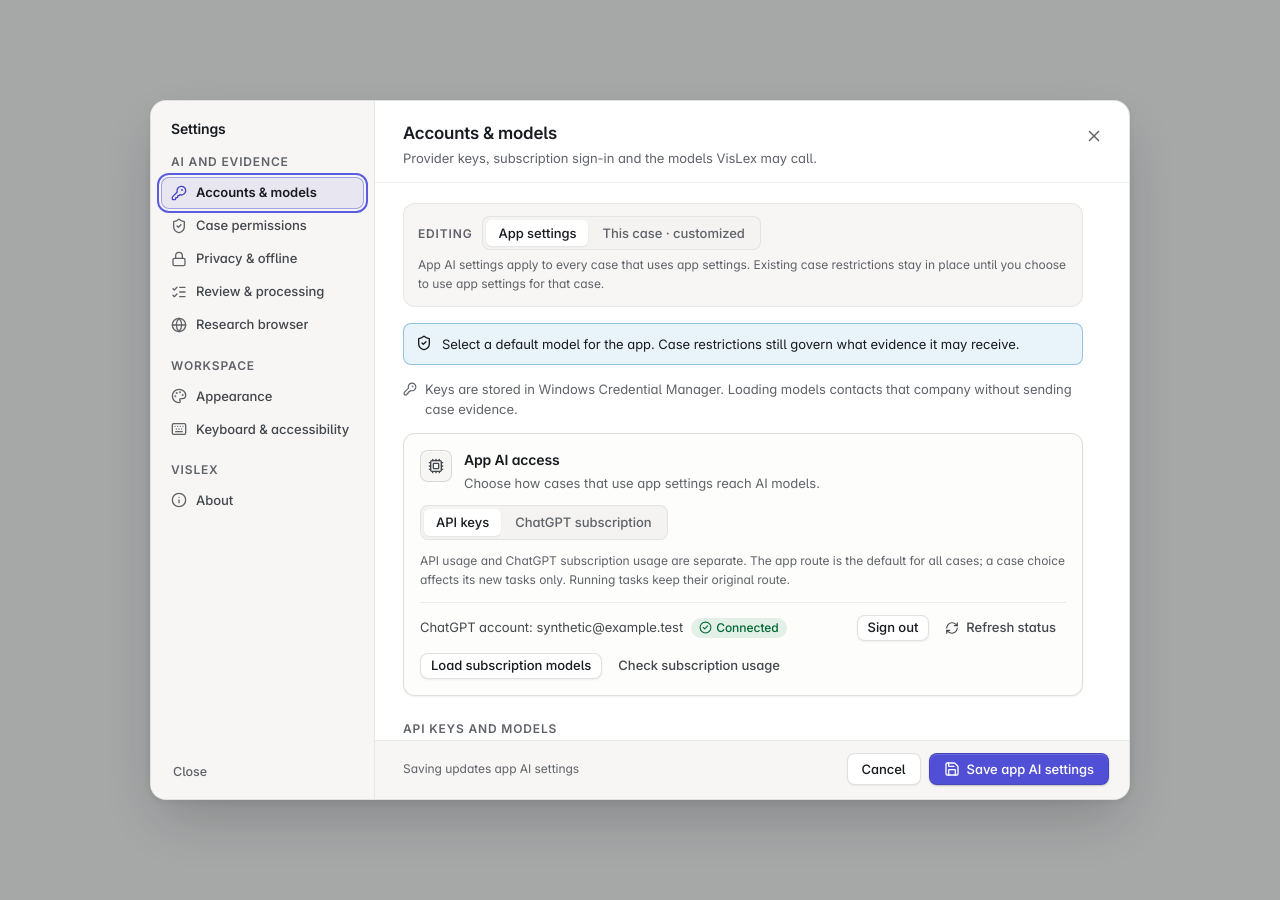
Test: applies a case subscription override without changing the app route
Click the button "This case · customized": point(674, 233) x1=590 y1=220 x2=757 y2=246
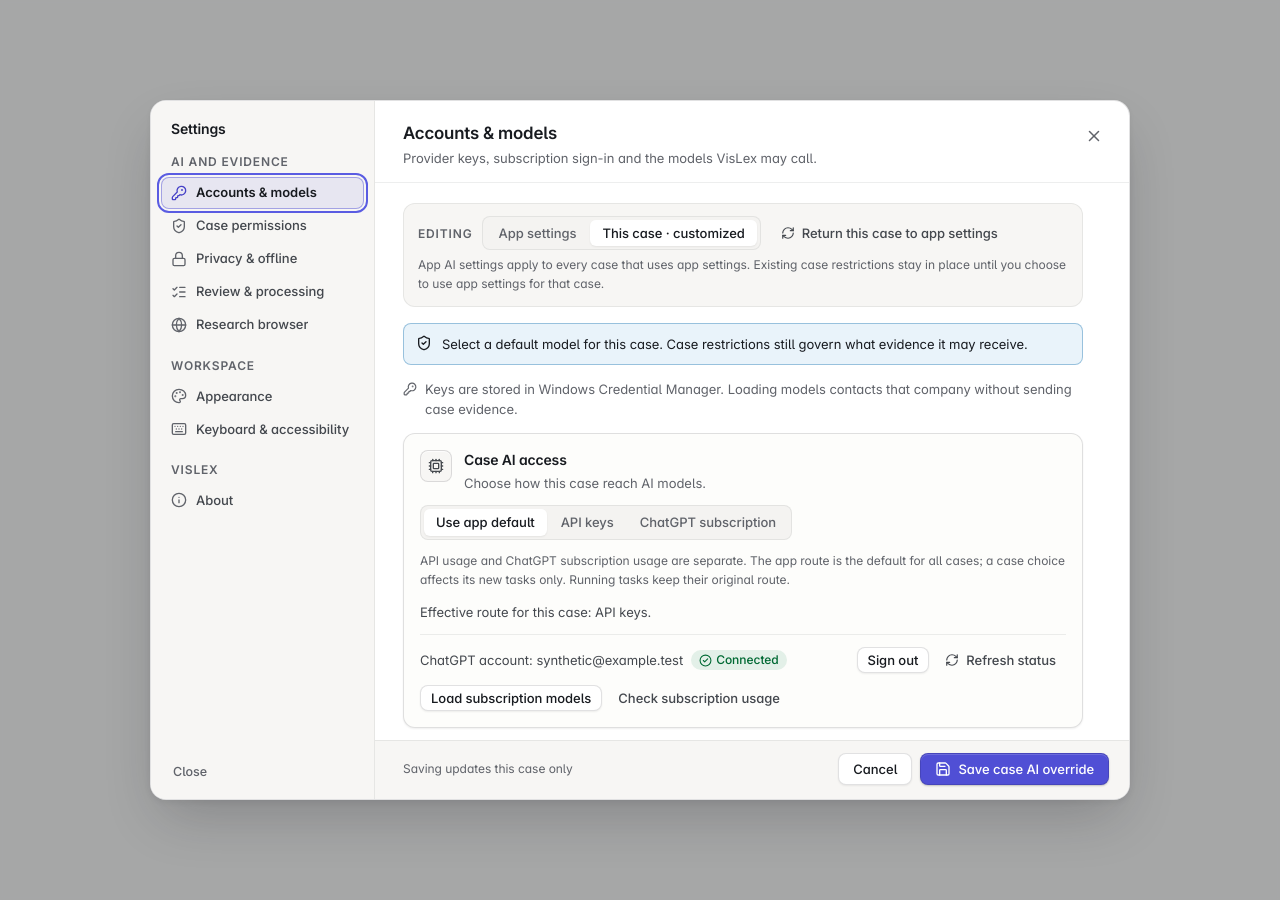
Click the button "ChatGPT subscription": point(708, 523) x1=628 y1=510 x2=788 y2=536
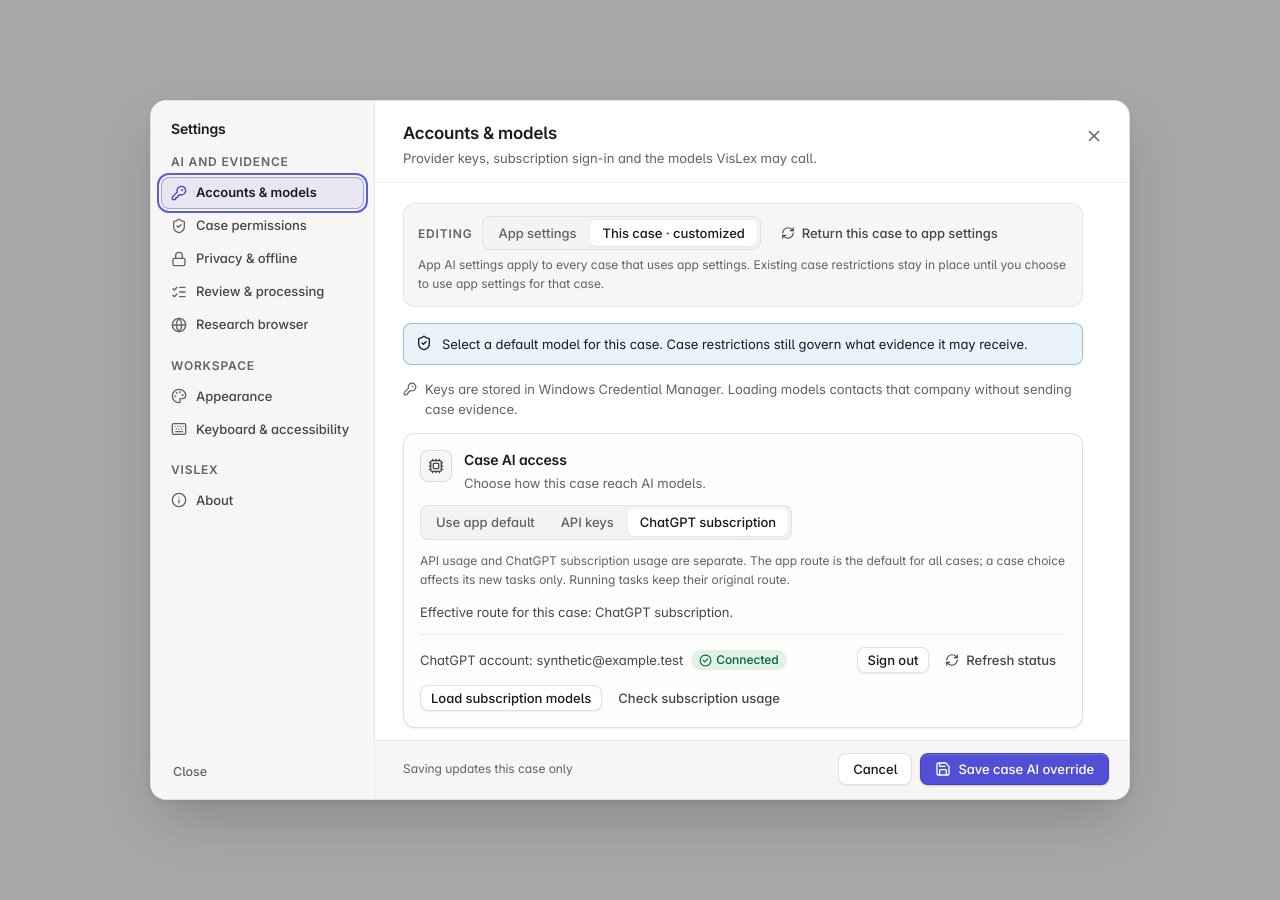
Check: the text "Effective route for this case: ChatGPT subscription." is shown, box x1=420 y1=604 x2=733 y2=620
